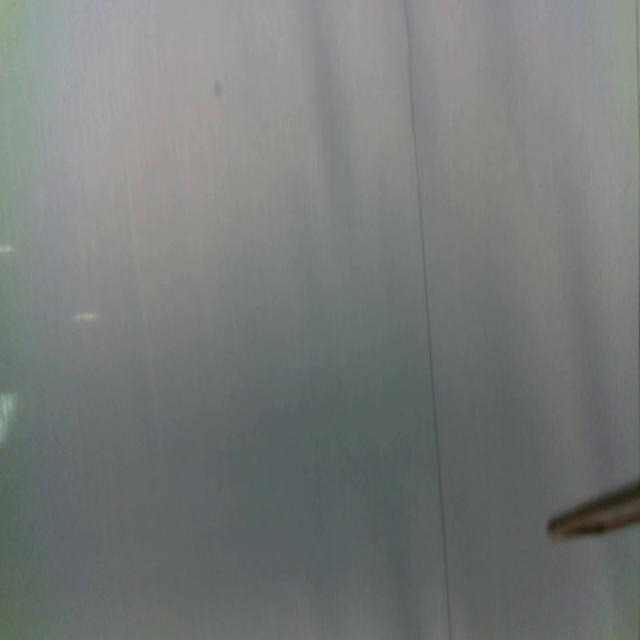crease: (404, 0, 455, 640)
